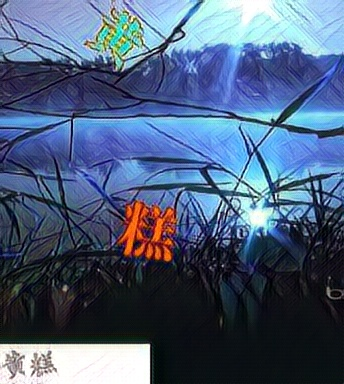B8E2: (117, 199, 182, 264)
BBC6: (84, 8, 149, 73)
